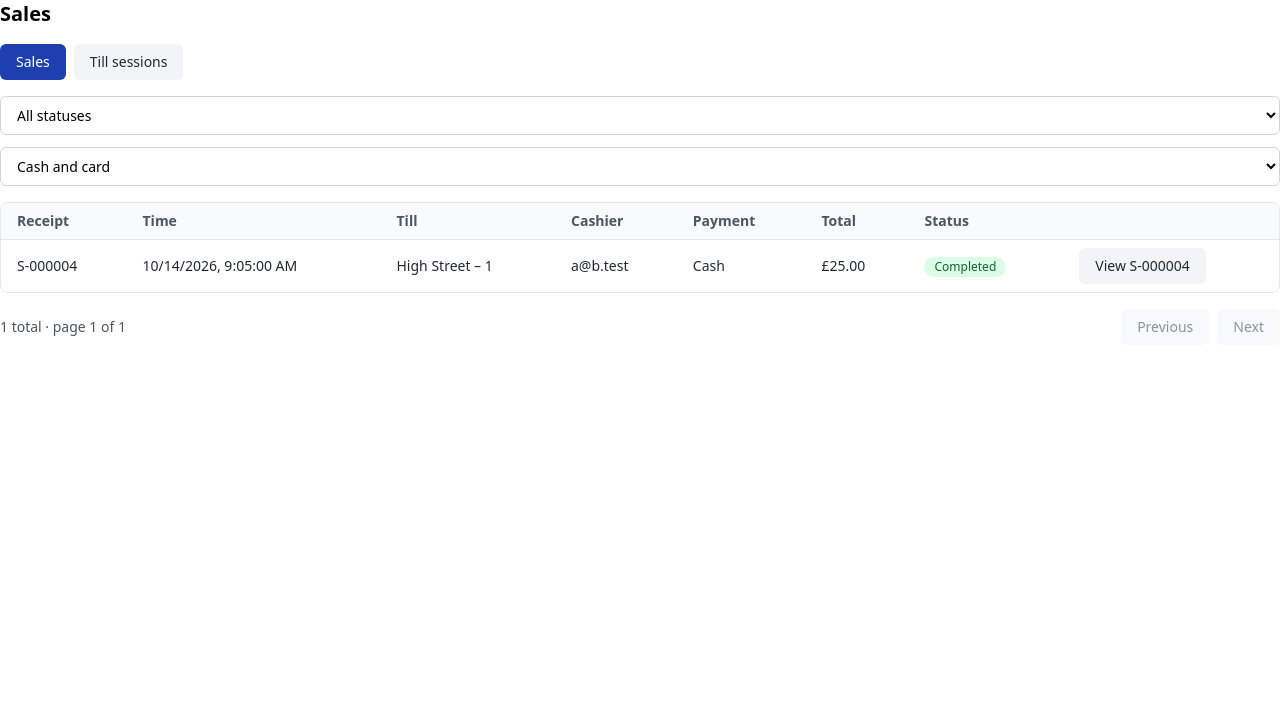
Test: SalesPage › voids a sale with a reason and shows it as voided
Click the button "View S-000004" at (1143,266), box [1079,248,1206,284]
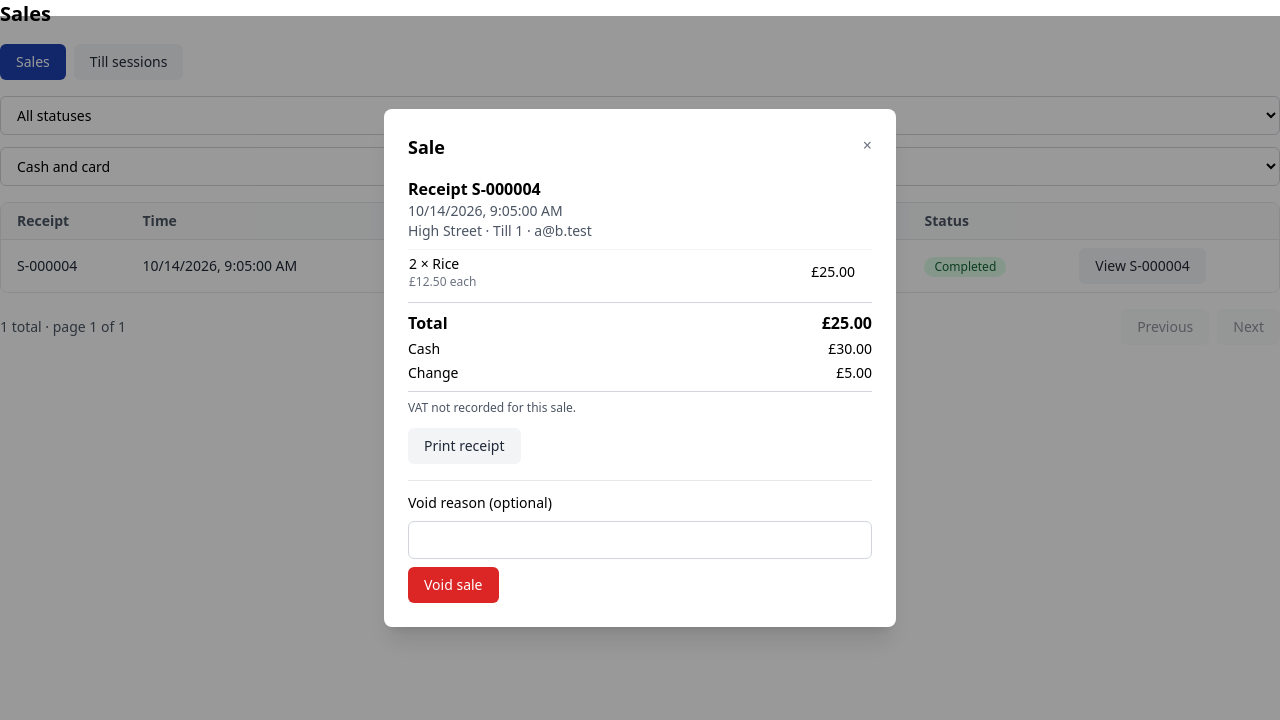
Type " Wrong item " into the field labelled "Void reason (optional)" at (640,540), box [408,521,872,559]
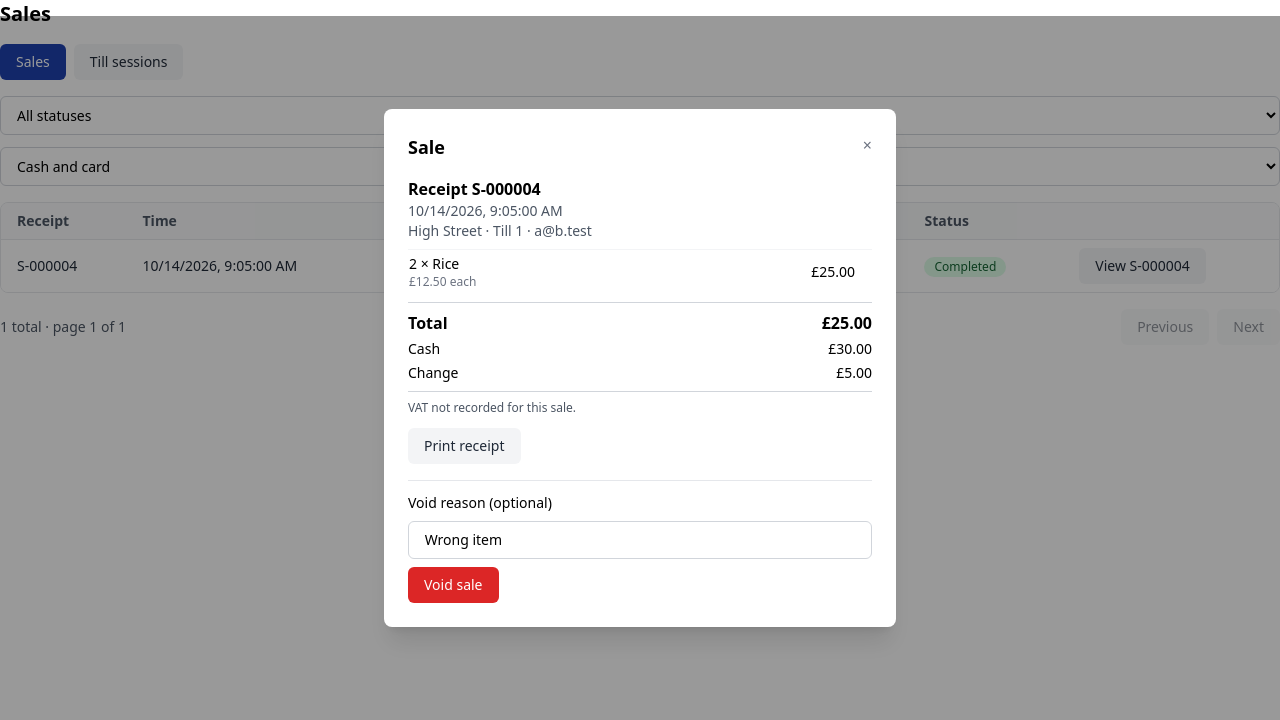
Click the button "Void sale" at (453,585), box [408,567,498,603]
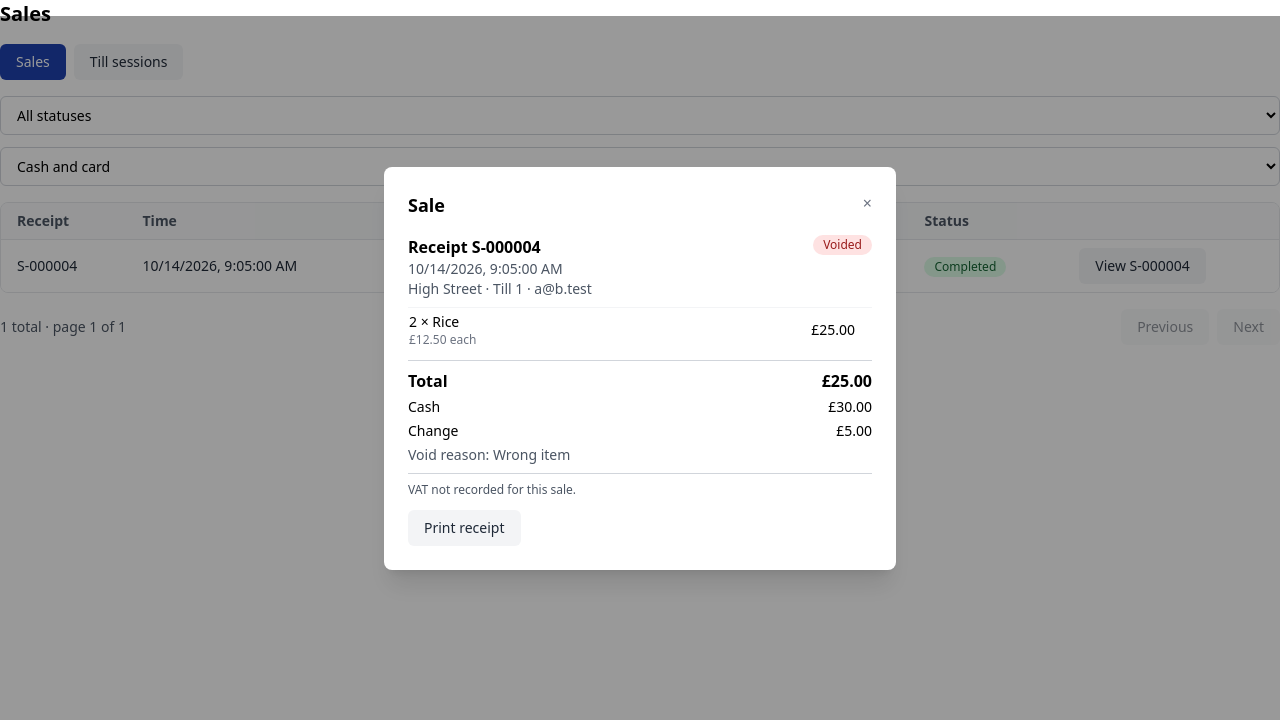
Expected: the text "Void reason: Wrong item" is shown, [408,444,570,464]
Expected: the button "Void sale" is gone
